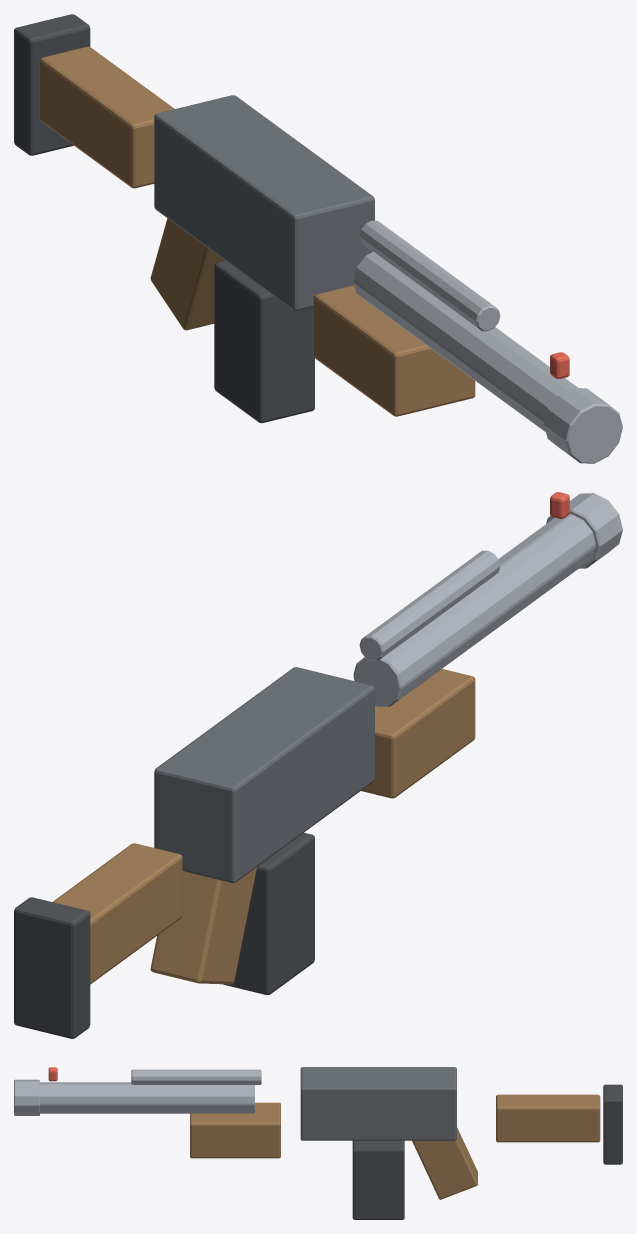
The model's file is autoshotgun.glb.
3 renders of one model, top to bottom at view 1: azimuth 30°, elevation 25°; view 2: azimuth 150°, elevation 25°; view 3: azimuth 270°, elevation 25°, orthographic. The views are drawn at different scales.
Parts seen in each view (by area): view 1: Receiver, Mag, Handguard, Barrel, Stock, Butt, Grip, Gas, Brake; view 2: Receiver, Barrel, Butt, Stock, Mag, Handguard, Grip, Gas, Brake; view 3: Receiver, Barrel, Stock, Handguard, Mag, Grip, Gas, Butt, Brake.
Part boxes in pixels (x1,y1,x2,y2): Receiver: (154, 95, 374, 310); Mag: (214, 260, 314, 423); Handguard: (313, 285, 475, 416); Barrel: (353, 252, 577, 432); Stock: (39, 46, 174, 188); Butt: (14, 14, 90, 155); Grip: (150, 218, 224, 330); Gas: (359, 220, 500, 331); Brake: (544, 388, 622, 463); Receiver: (154, 667, 374, 882); Barrel: (353, 514, 595, 707); Butt: (14, 897, 90, 1038); Stock: (52, 843, 182, 984); Mag: (223, 832, 314, 995); Handguard: (361, 669, 475, 798); Grip: (150, 867, 256, 984); Gas: (359, 550, 500, 661); Brake: (546, 493, 622, 568); Receiver: (300, 1067, 456, 1140); Barrel: (40, 1082, 254, 1113); Stock: (496, 1094, 600, 1142); Handguard: (190, 1102, 280, 1158); Mag: (352, 1140, 404, 1219); Grip: (412, 1127, 477, 1199); Gas: (131, 1069, 261, 1084); Butt: (603, 1084, 622, 1164); Brake: (14, 1079, 39, 1115).
Size of the model in its own units: 0.08 by 0.245 by 0.935.
